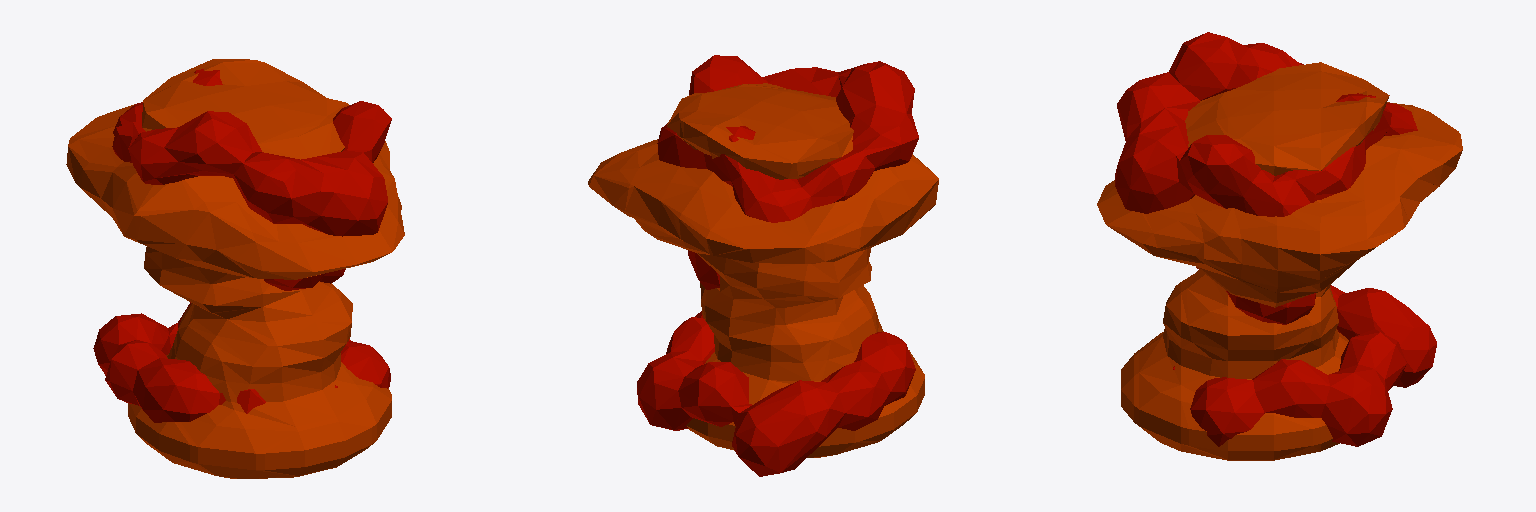
Rendered from effect_explosion.obj.
3 renders of one model, left to right at view 1: azimuth 30°, elevation 25°; view 2: azimuth 150°, elevation 25°; view 3: azimuth 270°, elevation 25°, orthographic.
Parts seen in each view (by area): view 1: effect_explosion_Mesh.004; view 2: effect_explosion_Mesh.004; view 3: effect_explosion_Mesh.004.
Boxes of the visible parts, x1=… form: effect_explosion_Mesh.004: x1=66, y1=59, x2=404, y2=478; effect_explosion_Mesh.004: x1=588, y1=55, x2=938, y2=476; effect_explosion_Mesh.004: x1=1097, y1=32, x2=1462, y2=460.
Size of the model in its own units: 119 by 143 by 129.